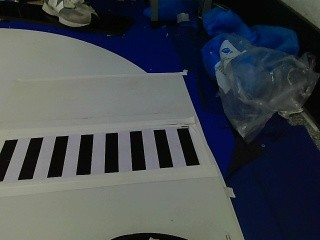crosswalk: (0, 124, 202, 177)
